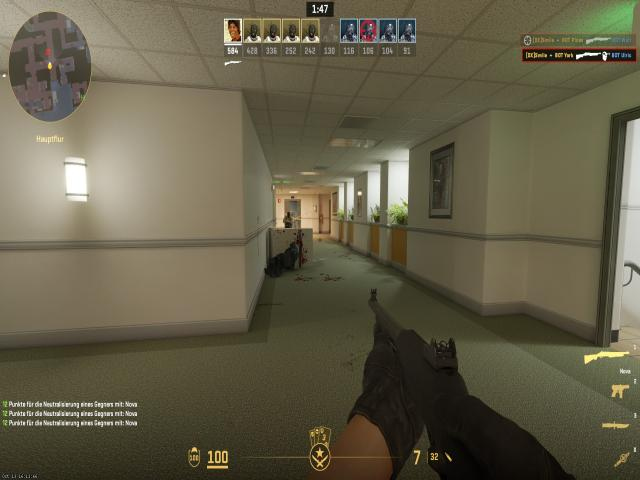Dead: (266, 242, 304, 276)
T: (284, 210, 293, 228)
T-Head: (287, 212, 291, 217)
